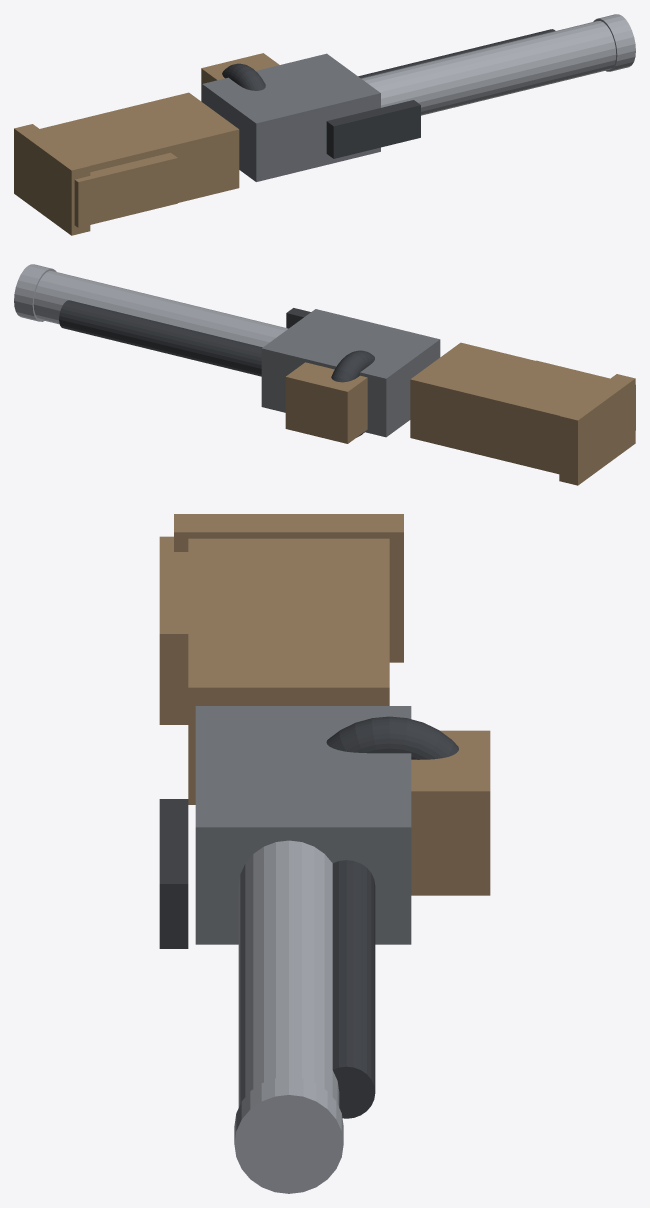
The model's file is shotgun_body.glb.
3 renders of one model, top to bottom at view 1: azimuth 30°, elevation 25°; view 2: azimuth 150°, elevation 25°; view 3: azimuth 270°, elevation 25°, orthographic. The views are drawn at different scales.
Visible parts, largest first — view 1: geometry_0; view 2: geometry_0; view 3: geometry_0.
Part boxes in pixels (x1,y1,x2,y2): geometry_0: [14, 14, 635, 235]; geometry_0: [14, 264, 635, 485]; geometry_0: [159, 514, 490, 1193].
Size of the model in its own units: 9.3 by 1.26 by 2.3.
